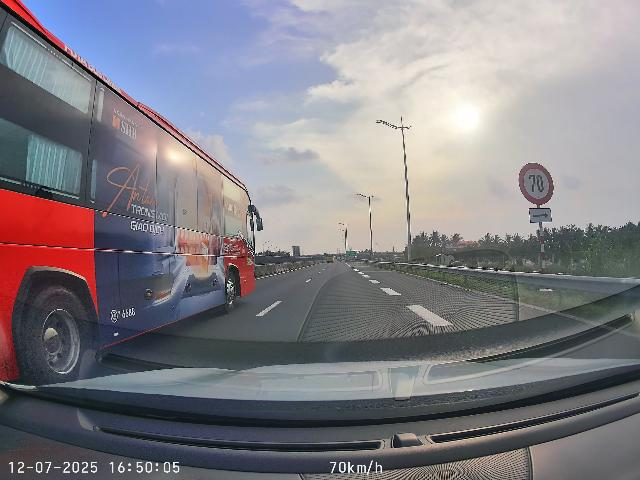127-toc-do-toi-da-70: (518, 162, 554, 205)
